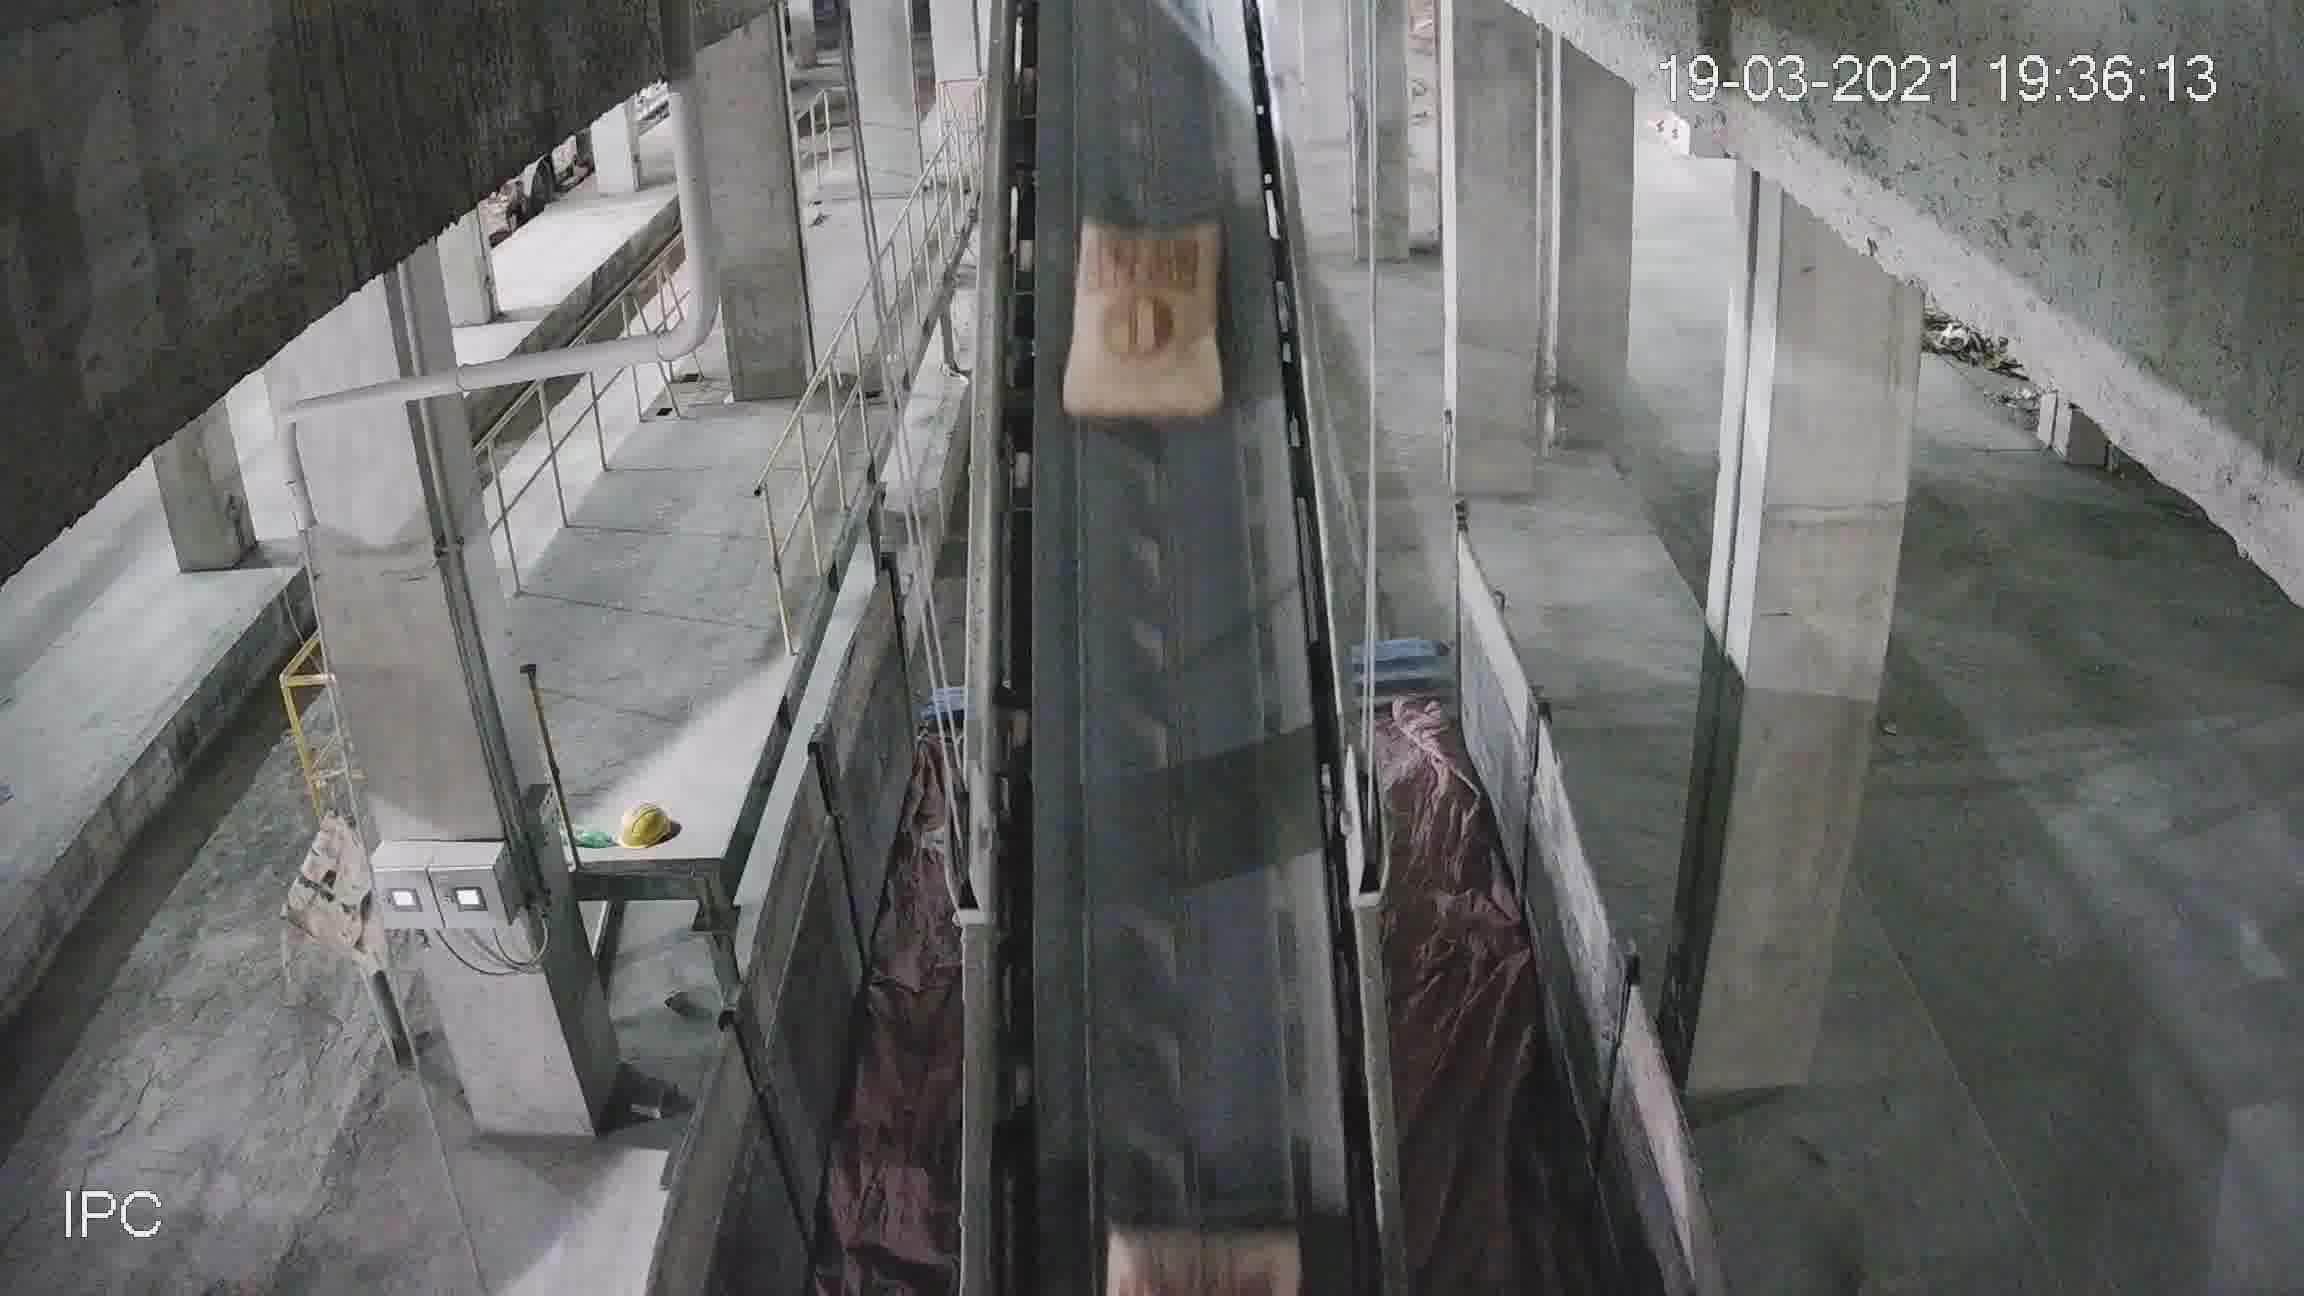bag: (1063, 215, 1226, 430), (1100, 1225, 1302, 1287)
belt: (949, 17, 1369, 1207)
